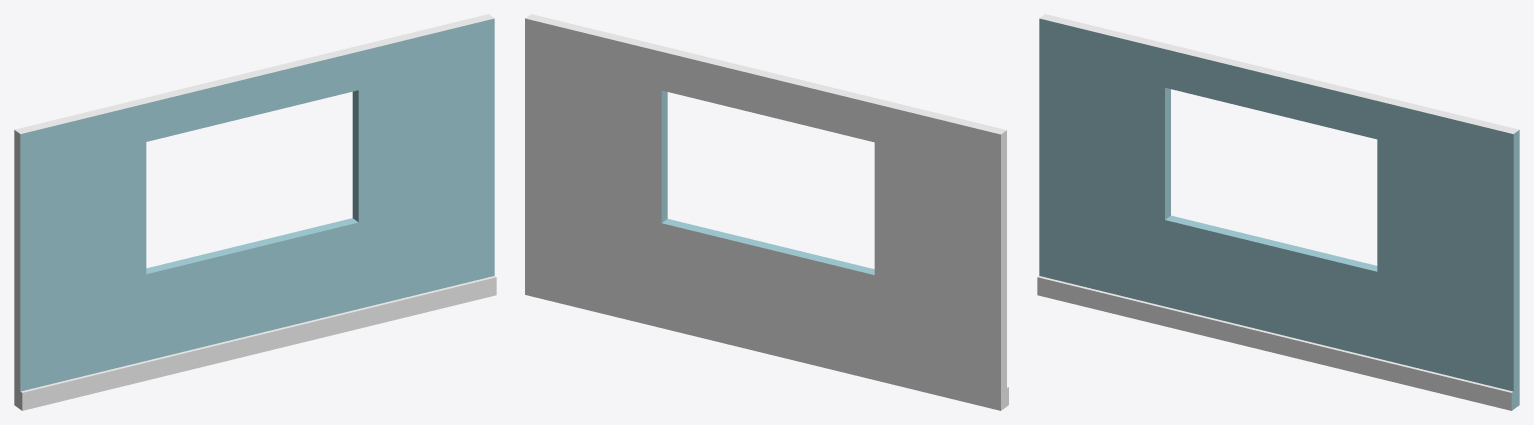
Rendered from Wall 4.fbx.
3 views of the same model, side by side, from view 1: azimuth 30°, elevation 25°; view 2: azimuth 150°, elevation 25°; view 3: azimuth 330°, elevation 25° (orthographic).
Visible parts, largest first — view 1: Wall 4; view 2: Wall 4; view 3: Wall 4.
Part boxes in pixels (x1=…): Wall 4: x1=14, y1=14, x2=496, y2=410; Wall 4: x1=525, y1=14, x2=1008, y2=410; Wall 4: x1=1037, y1=14, x2=1519, y2=410.
Size of the model in its own units: 4504 by 2500 by 130.
1 material, 1 textured.
